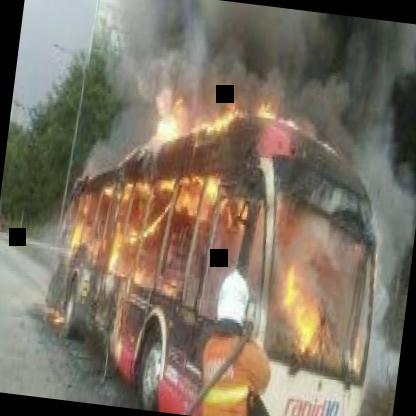fire: (58, 80, 354, 378)
